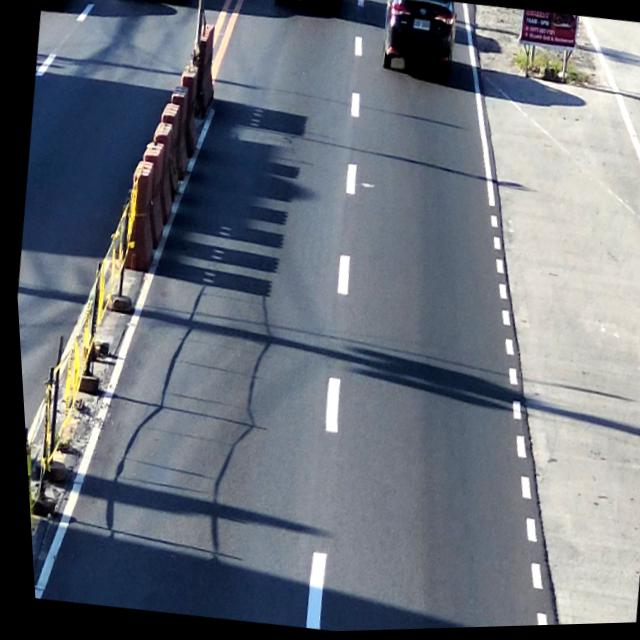Car: (374, 0, 464, 90)
License-Plate: (411, 19, 435, 35)
